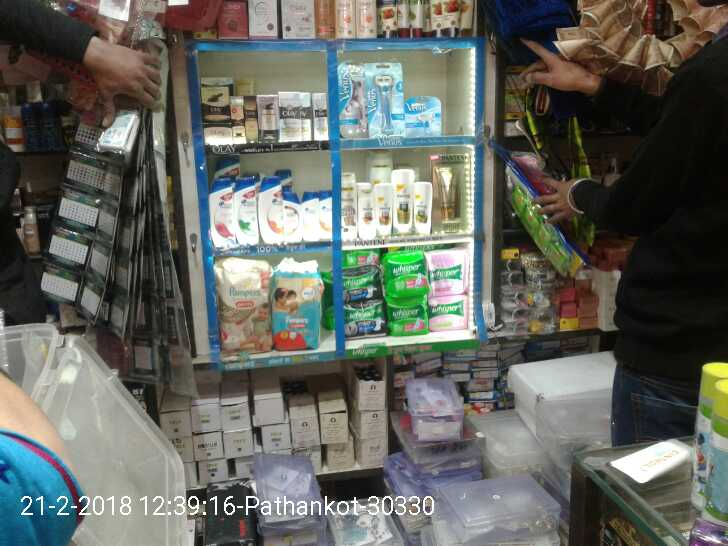venus: (368, 64, 406, 135), (340, 64, 368, 136), (406, 95, 441, 135)
